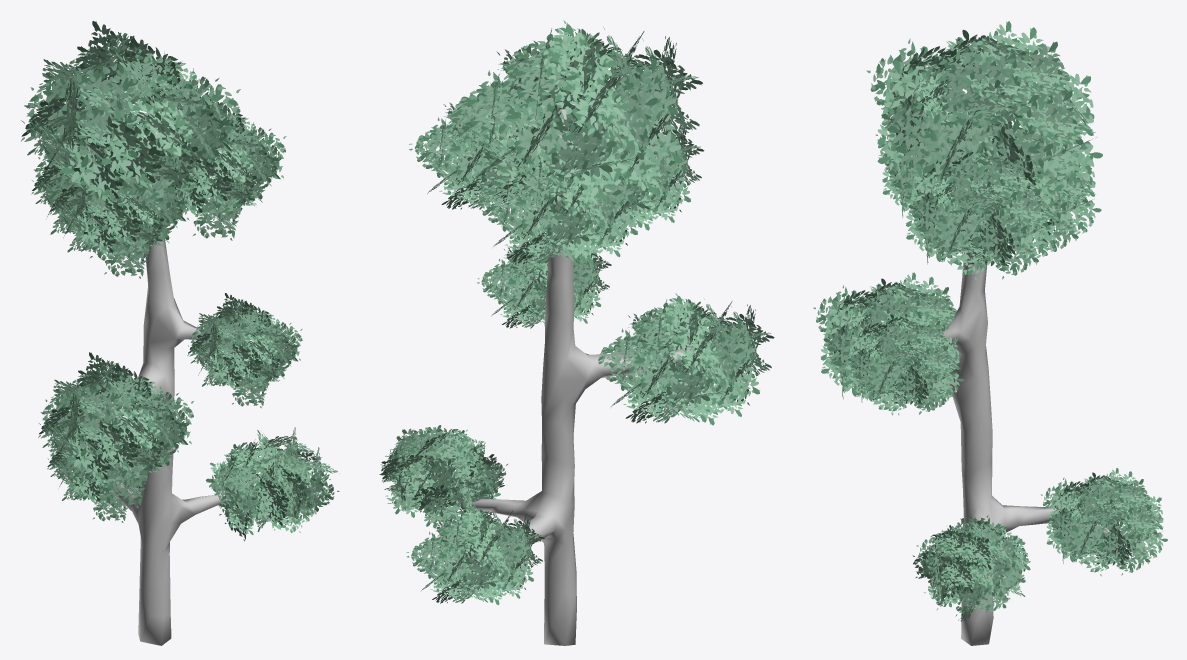
The model's file is RedWood2_V1.obj.
3 views of the same model, side by side, from view 1: azimuth 30°, elevation 25°; view 2: azimuth 150°, elevation 25°; view 3: azimuth 270°, elevation 25° (orthographic). The views are drawn at different scales.
Visible parts, largest first — view 1: Plane.004_Plane.005, Plane.001_Plane.002, LowPoly2, Plane.055_Plane.056, Plane.003_Plane.004, Plane.002_Plane.003, Plane.005_Plane.006, Plane.000_Plane.001, Plane.006_Plane.007; view 2: Plane.004_Plane.005, LowPoly2, Plane.001_Plane.002, Plane.006_Plane.007, Plane.000_Plane.001, Plane.055_Plane.056, Plane.005_Plane.006, Plane.003_Plane.004, Plane.002_Plane.003; view 3: Plane.004_Plane.005, Plane.005_Plane.006, LowPoly2, Plane.000_Plane.001, Plane.003_Plane.004, Plane.055_Plane.056, Plane.001_Plane.002, Plane.006_Plane.007, Plane.002_Plane.003.
Part boxes in pixels (x1,y1,x2,y2): Plane.004_Plane.005: [21, 21, 240, 240]; Plane.001_Plane.002: [38, 352, 193, 508]; LowPoly2: [97, 127, 226, 645]; Plane.055_Plane.056: [206, 427, 340, 541]; Plane.003_Plane.004: [187, 293, 302, 408]; Plane.002_Plane.003: [49, 158, 191, 278]; Plane.005_Plane.006: [143, 99, 286, 240]; Plane.000_Plane.001: [47, 422, 141, 522]; Plane.006_Plane.007: [31, 120, 138, 260]; Plane.004_Plane.005: [446, 20, 702, 203]; LowPoly2: [441, 109, 715, 645]; Plane.001_Plane.002: [598, 293, 774, 425]; Plane.006_Plane.007: [474, 140, 649, 265]; Plane.000_Plane.001: [406, 504, 544, 605]; Plane.055_Plane.056: [379, 425, 508, 528]; Plane.005_Plane.006: [409, 82, 570, 209]; Plane.003_Plane.004: [477, 241, 611, 328]; Plane.002_Plane.003: [559, 114, 704, 230]; Plane.004_Plane.005: [866, 21, 1102, 218]; Plane.005_Plane.006: [898, 146, 1061, 280]; LowPoly2: [867, 132, 1120, 645]; Plane.000_Plane.001: [1040, 468, 1167, 576]; Plane.003_Plane.004: [840, 310, 963, 415]; Plane.055_Plane.056: [912, 515, 1030, 621]; Plane.001_Plane.002: [813, 272, 959, 415]; Plane.006_Plane.007: [961, 123, 1101, 256]; Plane.002_Plane.003: [875, 111, 1008, 217].
Size of the model in its own units: 52.24 by 92.34 by 50.82.
